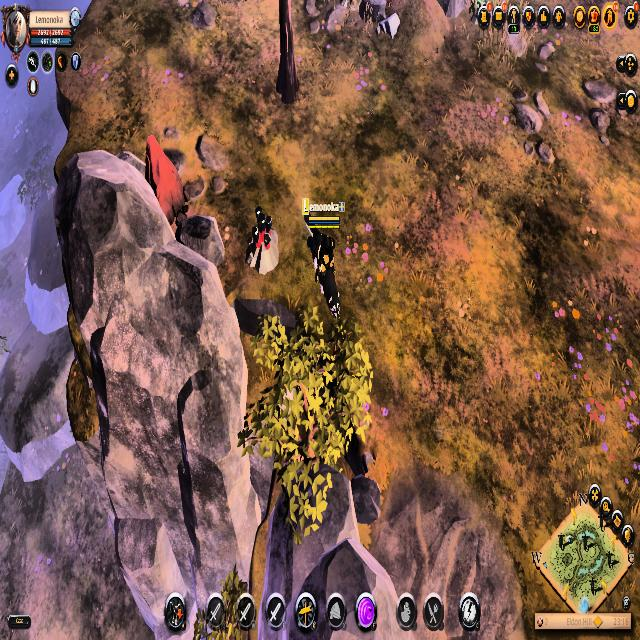ore tier 5: (245, 204, 281, 276)
rock tier 5: (144, 132, 190, 229)
